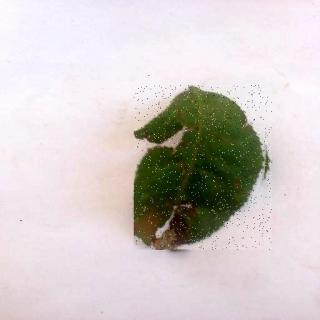Brown Blight: (136, 86, 274, 251)
